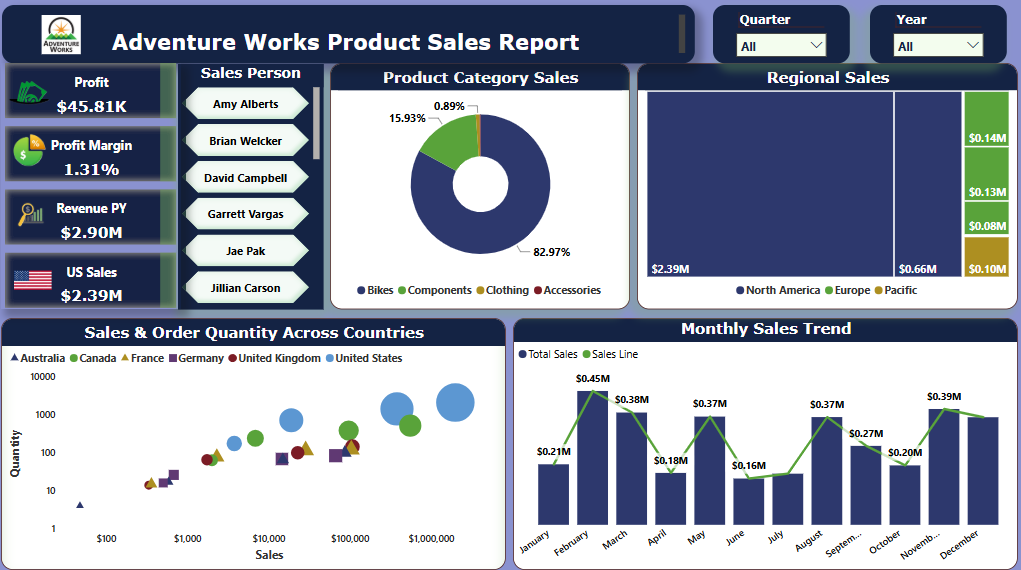

What the dashboard file says about the page in this screenshot:
{"tool":"powerbi","page":{"name":"Adventure Works Sales Report","canvas":[1280,720],"ordinal":0},"visuals":[{"type":"lineStackedColumnComboChart","title":"Monthly Sales Trend","fields":{"Category":["Sales.OrderDate.Variation.Date Hierarchy.Month"],"Y":["Key Measures.Total Sales"],"Y2":["Sum(Sales.Total Sales)"]},"box":[644.3,405.2,630.9,314.8],"z":0},{"type":"donutChart","title":"Product Category Sales","fields":{"Y":["Key Measures.Total Sales"],"Category":["Products.Category"]},"box":[414.9,86.6,374.6,307.5],"z":1000},{"type":"treemap","title":"Regional Sales","fields":{"Values":["Key Measures.Total Sales"],"Group":["Region.Group"],"Details":["Region.Country"]},"box":[799.3,86.6,475.9,307.5],"z":2000},{"type":"slicer","fields":{"Values":["Sales.OrderDate.Variation.Date Hierarchy.Year"]},"box":[1089.8,13.4,170.8,73.2],"z":3000},{"type":"textbox","title":" Adventure Works Quarterly Performance Report","box":[4.9,13.4,866.4,73.2],"z":4000},{"type":"image","box":[42.7,20.7,73.2,58.6],"z":5000},{"type":"advancedSlicerVisual","title":"Sales Person","fields":{"Values":["Salesperson.Salesperson"]},"box":[225.5,86.9,182,307],"z":6000},{"type":"slicer","fields":{"Values":["Sales.OrderDate.Variation.Date Hierarchy.Quarter"]},"box":[893.2,13.3,171.5,73.1],"z":7000},{"type":"cardVisual","fields":{"Data":["Key Measures.Profit","Key Measures.Profit Margin","Key Measures.Revenue PY","Key Measures.US Sales"]},"box":[3.7,86.6,224.5,307.5],"z":8000,"group":"g1"},{"type":"scatterChart","title":"Sales & Order Quantity Across Countries","fields":{"X":["Sum(Sales.Total Sales)"],"Y":["Sum(Sales.Quantity)"],"Category":["Products.Category"],"Series":["Region.Country"],"Size":["CountNonNull(Sales.OrderDate)"]},"box":[3.7,405.2,630.9,314.8],"z":9000},{"type":"image","box":[14.5,328.8,56.8,57.2],"z":10000,"group":"g1"},{"type":"image","box":[13.2,241.7,55.5,69.4],"z":11000,"group":"g1"},{"type":"image","box":[8.1,168.3,58.2,55.8],"z":12000,"group":"g1"},{"type":"image","box":[7.8,86.6,63.6,69.4],"z":13000,"group":"g1"},{"type":"group","id":"g1","title":"Group 1","box":[3.7,86.6,224.5,307.5],"z":13001}]}

Visuals, with their boxes in screenshot pixels (x1, y1, x2, y2), scaled from the page's 1280x720 canvas onto the 1021x570 screenshot:
"Monthly Sales Trend" lineStackedColumnComboChart: locate(514, 321, 1017, 569)
"Product Category Sales" donutChart: locate(331, 69, 630, 312)
"Regional Sales" treemap: locate(638, 69, 1017, 312)
slicer - Sales.OrderDate.Variation.Date Hierarchy.Year: locate(869, 11, 1006, 69)
" Adventure Works Quarterly Performance Report" textbox: locate(4, 11, 695, 69)
image: locate(34, 16, 92, 63)
"Sales Person" advancedSlicerVisual: locate(180, 69, 325, 312)
slicer - Sales.OrderDate.Variation.Date Hierarchy.Quarter: locate(712, 11, 849, 68)
cardVisual - Key Measures.Profit x Key Measures.Profit Margin: locate(3, 69, 182, 312)
"Sales & Order Quantity Across Countries" scatterChart: locate(3, 321, 506, 569)
image: locate(12, 260, 57, 306)
image: locate(11, 191, 55, 246)
image: locate(6, 133, 53, 177)
image: locate(6, 69, 57, 124)
"Group 1" group: locate(3, 69, 182, 312)
